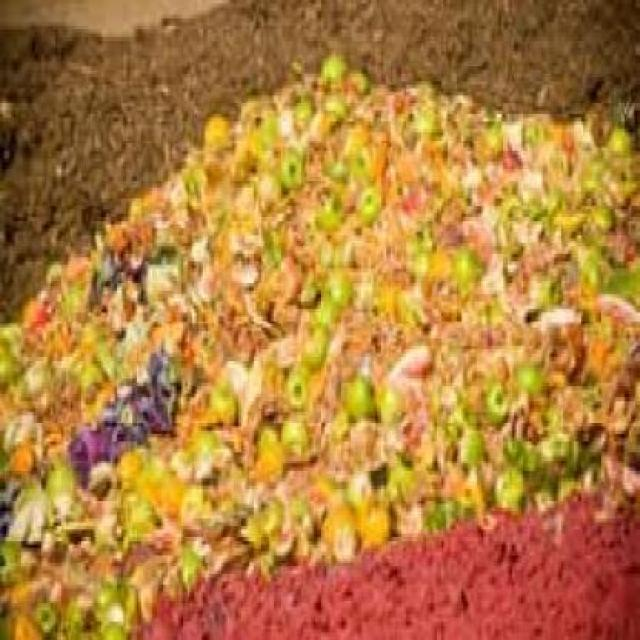garbage: (254, 89, 638, 504), (12, 294, 343, 588)
